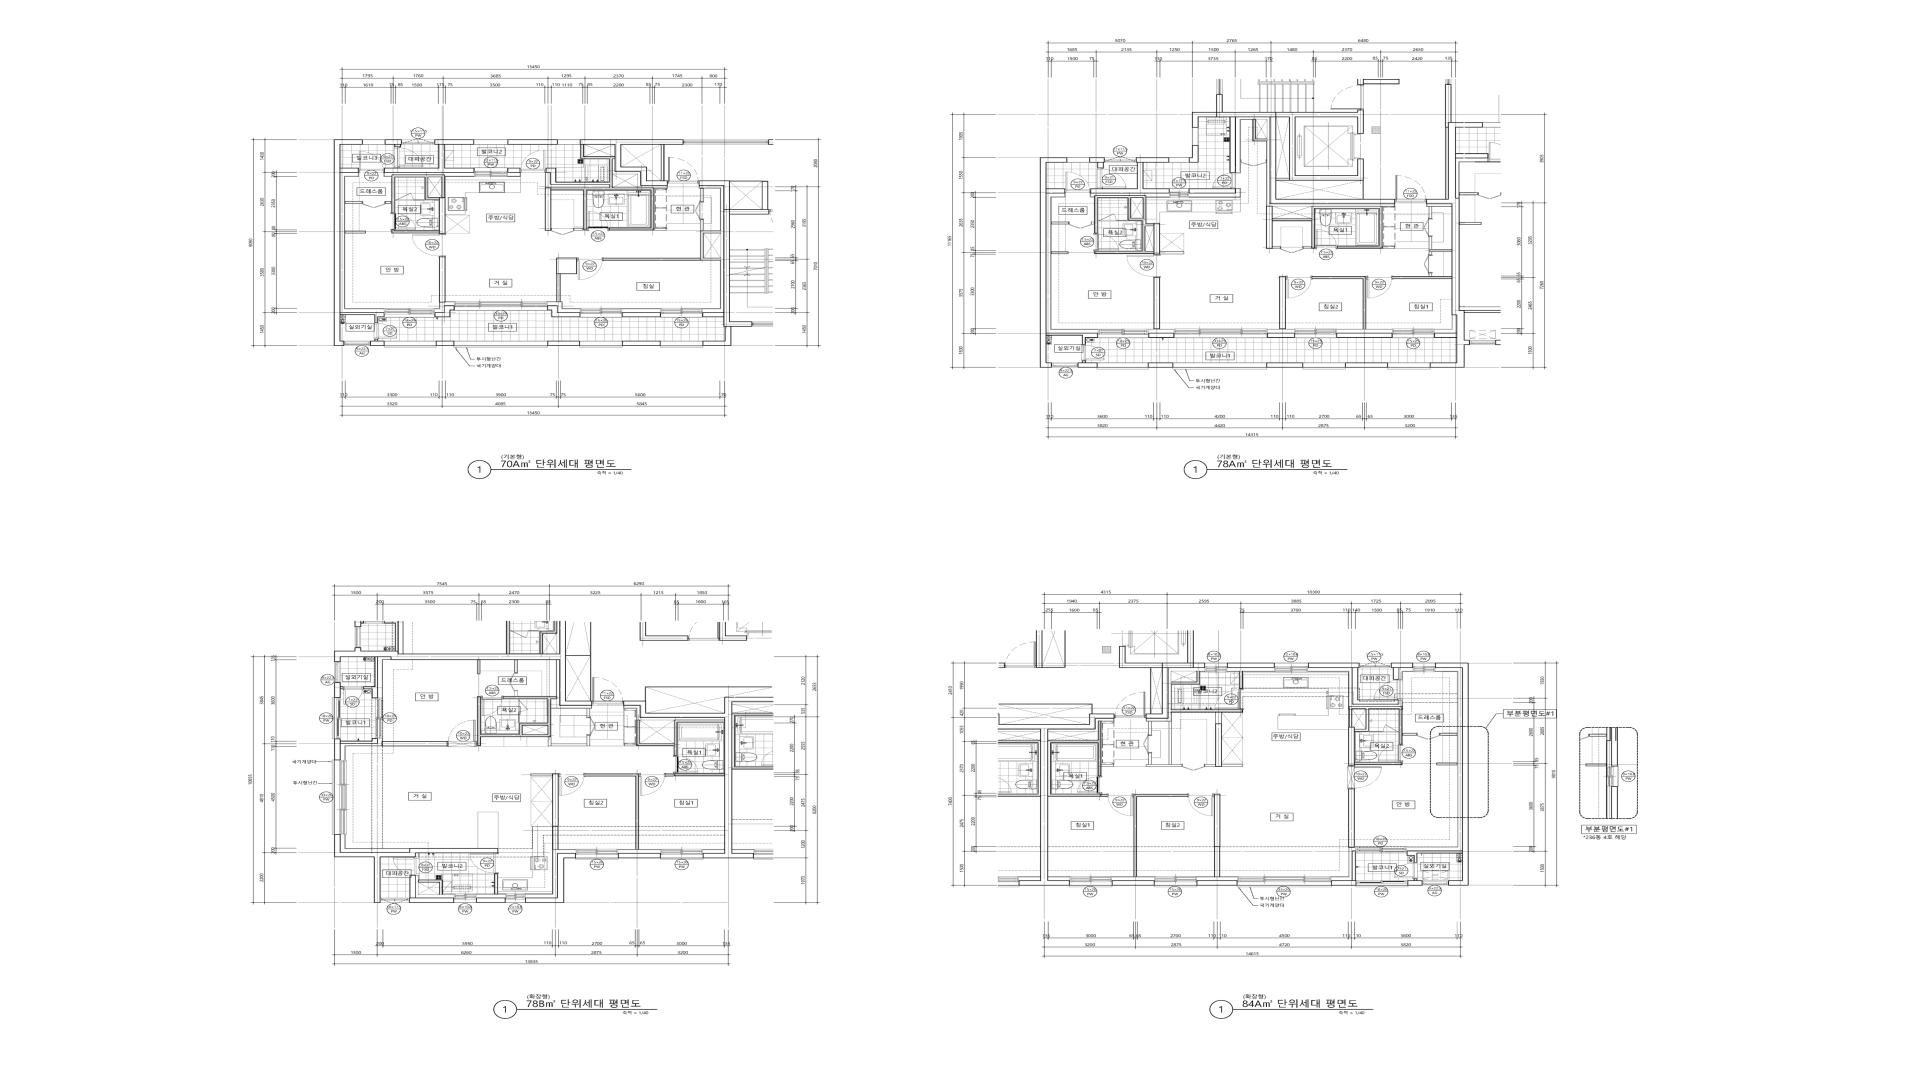door: (1114, 692, 1146, 719), (1395, 175, 1427, 202), (667, 157, 699, 183), (1331, 84, 1364, 109), (447, 720, 477, 746), (592, 678, 624, 703), (413, 233, 446, 257), (1349, 766, 1382, 789), (1127, 255, 1160, 277), (1374, 679, 1403, 700), (1215, 688, 1244, 709), (469, 853, 498, 874), (1108, 794, 1134, 816), (1188, 794, 1215, 816), (1064, 171, 1091, 194), (1286, 276, 1312, 298), (520, 150, 546, 173), (1097, 169, 1126, 189), (394, 148, 423, 167), (1366, 277, 1393, 298), (576, 258, 603, 280), (638, 774, 665, 795), (558, 774, 584, 795), (359, 152, 384, 173), (393, 857, 419, 876), (1315, 229, 1337, 249), (587, 211, 609, 231), (480, 696, 502, 716), (1095, 233, 1118, 252), (674, 756, 698, 774), (1378, 745, 1403, 762), (1077, 777, 1101, 794), (392, 214, 415, 229), (1395, 862, 1418, 878), (1083, 344, 1105, 360), (1213, 173, 1236, 189), (375, 323, 397, 339), (343, 687, 363, 704), (695, 200, 704, 220), (1241, 160, 1267, 166), (509, 673, 518, 691), (1418, 733, 1440, 740), (1069, 222, 1092, 228), (1280, 247, 1303, 253), (551, 228, 574, 235), (363, 202, 385, 208), (1143, 735, 1151, 753), (1098, 214, 1117, 222), (1424, 255, 1432, 273), (587, 717, 595, 736), (396, 193, 413, 200), (1424, 219, 1432, 236), (1182, 765, 1205, 770), (518, 699, 527, 712), (1383, 725, 1399, 732)
wall: (334, 621, 592, 705), (1393, 84, 1465, 368), (1192, 109, 1395, 204), (624, 698, 732, 858), (1236, 117, 1395, 206), (1407, 663, 1469, 886), (1040, 713, 1114, 886), (1039, 157, 1098, 368), (699, 181, 769, 345), (334, 835, 498, 903), (334, 140, 384, 345), (1407, 667, 1462, 851), (1146, 669, 1244, 766), (545, 145, 654, 231), (1047, 194, 1098, 334), (1120, 646, 1205, 719), (340, 173, 384, 313), (1266, 206, 1382, 249), (603, 220, 720, 261), (580, 140, 683, 186), (1134, 794, 1188, 877), (584, 774, 640, 849), (477, 696, 556, 746), (1095, 195, 1160, 255), (1308, 667, 1403, 707), (1308, 663, 1399, 704), (1349, 707, 1403, 766), (699, 186, 724, 313), (384, 140, 475, 173), (1091, 157, 1170, 194), (1312, 277, 1366, 330), (525, 853, 576, 903), (525, 849, 576, 898), (551, 659, 592, 717), (392, 174, 444, 214), (613, 160, 667, 187), (624, 705, 724, 720), (409, 876, 454, 903), (340, 835, 409, 852), (566, 655, 591, 700), (334, 738, 378, 761), (340, 738, 382, 761), (1048, 719, 1114, 732), (415, 876, 454, 898), (1332, 851, 1356, 886), (1332, 847, 1356, 881), (377, 657, 390, 698), (1189, 189, 1241, 198), (1215, 794, 1220, 877), (549, 736, 589, 746), (1429, 236, 1452, 255), (553, 774, 558, 849), (1435, 315, 1457, 332), (1171, 671, 1200, 684), (418, 880, 443, 894), (1427, 204, 1452, 219), (384, 173, 475, 177), (1279, 276, 1286, 330), (1391, 663, 1414, 679), (381, 741, 447, 746), (547, 302, 580, 313), (547, 306, 580, 316), (1154, 277, 1160, 330), (556, 257, 576, 274), (1253, 119, 1267, 141), (1349, 789, 1354, 848), (1091, 194, 1170, 198), (439, 257, 446, 302), (1352, 709, 1366, 729), (1216, 724, 1222, 766), (508, 140, 558, 145), (1228, 663, 1275, 669), (1189, 189, 1236, 194), (439, 198, 446, 233), (1336, 330, 1393, 334), (1112, 881, 1154, 886), (1345, 363, 1387, 368), (618, 853, 661, 858), (1337, 334, 1393, 338), (1358, 79, 1399, 84), (1197, 881, 1237, 886), (435, 302, 455, 313), (435, 306, 455, 316), (1228, 667, 1275, 671), (1089, 157, 1105, 169), (1267, 363, 1303, 368), (392, 229, 439, 233), (1399, 667, 1414, 679), (1112, 877, 1154, 881), (618, 849, 661, 853), (1189, 145, 1199, 162), (1197, 877, 1237, 881), (1077, 360, 1097, 368), (476, 898, 505, 903), (622, 342, 661, 345), (622, 313, 661, 316), (622, 309, 661, 313), (1267, 332, 1295, 338), (661, 145, 665, 181), (1149, 332, 1175, 338), (385, 140, 402, 148), (334, 683, 343, 698), (547, 342, 579, 345), (1149, 363, 1172, 368), (1408, 878, 1423, 886), (476, 894, 505, 898), (556, 274, 560, 302), (508, 167, 520, 177), (1267, 330, 1295, 334), (1149, 330, 1175, 334), (1447, 128, 1448, 199), (371, 339, 384, 345), (1048, 877, 1069, 881), (703, 849, 724, 853), (1240, 671, 1244, 688), (436, 342, 454, 345), (1160, 252, 1184, 255), (1150, 669, 1151, 713), (530, 774, 553, 777), (495, 874, 497, 894), (514, 659, 518, 673), (700, 189, 704, 202), (345, 231, 365, 233), (345, 202, 363, 204), (731, 181, 762, 182), (1403, 733, 1418, 736), (477, 659, 480, 674), (624, 744, 637, 746), (1382, 247, 1395, 249), (1276, 178, 1290, 181), (654, 228, 666, 231), (1222, 765, 1244, 766), (574, 228, 584, 231), (1303, 247, 1312, 249), (1273, 247, 1280, 249), (1101, 765, 1114, 766), (1370, 731, 1383, 732), (385, 202, 392, 204), (415, 853, 419, 857), (413, 199, 425, 200), (1205, 765, 1216, 766), (1117, 220, 1127, 222), (518, 712, 520, 723), (514, 691, 517, 696), (1429, 273, 1432, 277), (1092, 222, 1095, 224)
window: (332, 761, 347, 835), (1237, 877, 1332, 887), (1175, 330, 1267, 338), (455, 302, 547, 310), (1172, 363, 1267, 369), (454, 342, 547, 348), (384, 309, 435, 318), (1154, 877, 1197, 887), (661, 849, 703, 860), (576, 849, 618, 860), (1069, 877, 1112, 887), (1098, 330, 1149, 338), (580, 309, 622, 318), (661, 309, 703, 318), (1356, 881, 1408, 887), (384, 342, 436, 348), (1097, 363, 1149, 369), (1393, 330, 1435, 338), (1295, 330, 1337, 338), (332, 698, 340, 738), (1275, 663, 1308, 673), (475, 167, 508, 177), (579, 342, 622, 348), (1387, 363, 1431, 369), (661, 342, 703, 348), (1303, 363, 1345, 369), (1356, 847, 1407, 852), (376, 698, 382, 738), (402, 138, 434, 145), (1205, 663, 1228, 673), (454, 894, 476, 903), (1414, 663, 1435, 673), (380, 898, 409, 905), (505, 894, 525, 903), (1170, 189, 1189, 198), (473, 140, 508, 145), (1360, 662, 1391, 667), (1105, 157, 1135, 162), (334, 662, 340, 683), (1051, 363, 1077, 368), (1067, 157, 1089, 162), (363, 140, 385, 145), (558, 140, 580, 145), (1192, 128, 1199, 145), (1170, 157, 1189, 162), (344, 342, 371, 345), (1423, 881, 1448, 885)
